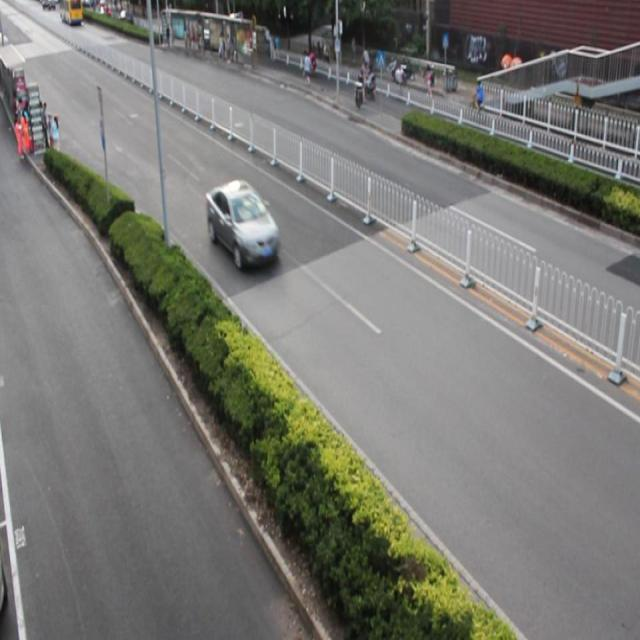car: (206, 177, 279, 272)
